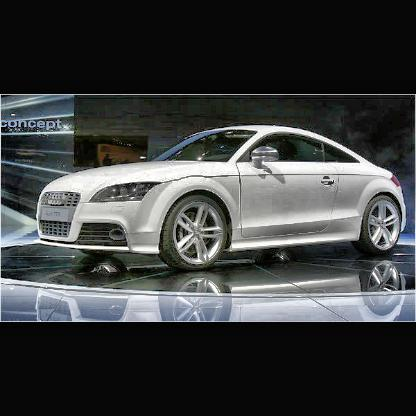Audi TTS Coupe 2012: (37, 127, 407, 274)
